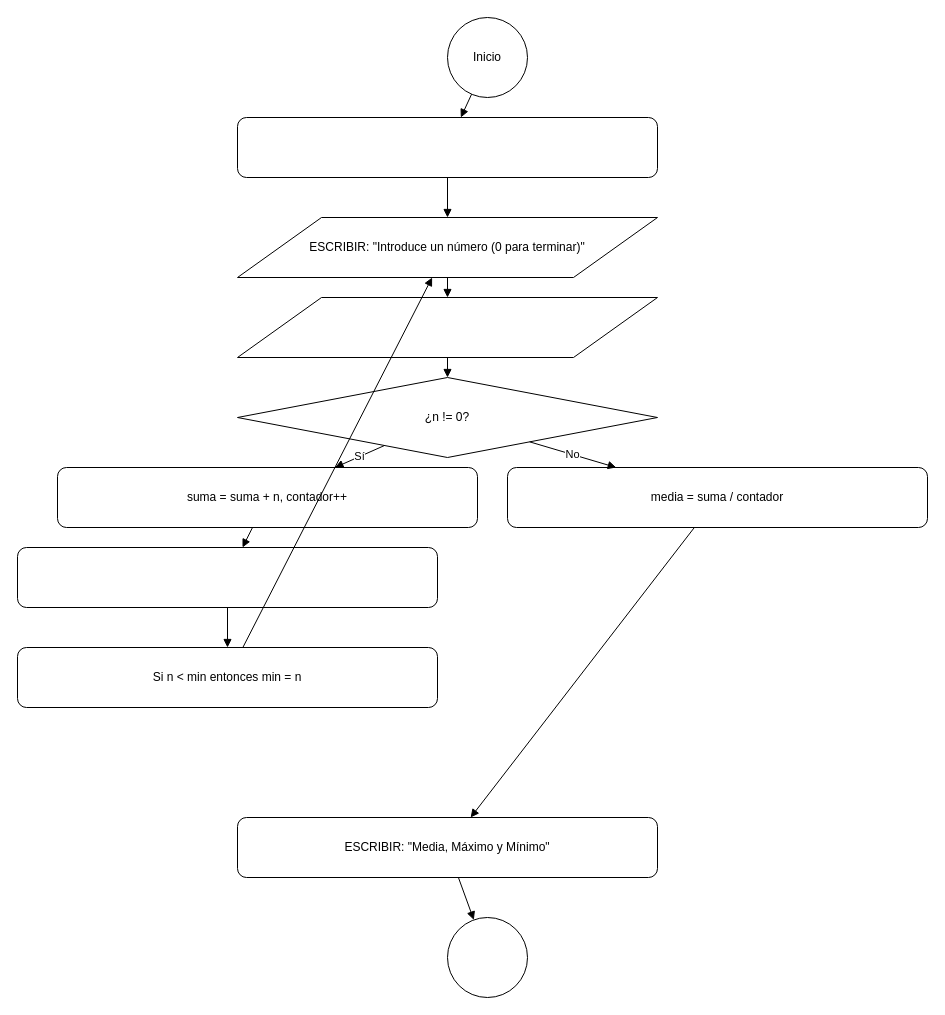
Some shapes in this 945 by 1015 pixel diagram are drawn without their labels. Each missing label, with the box of its shape:
Definir: n, suma=0, contador=0, max, min: (236, 116, 658, 178)
Fin: (446, 916, 528, 998)
LEER: n: (236, 296, 658, 358)
Si n > max entonces max = n: (16, 546, 438, 608)
